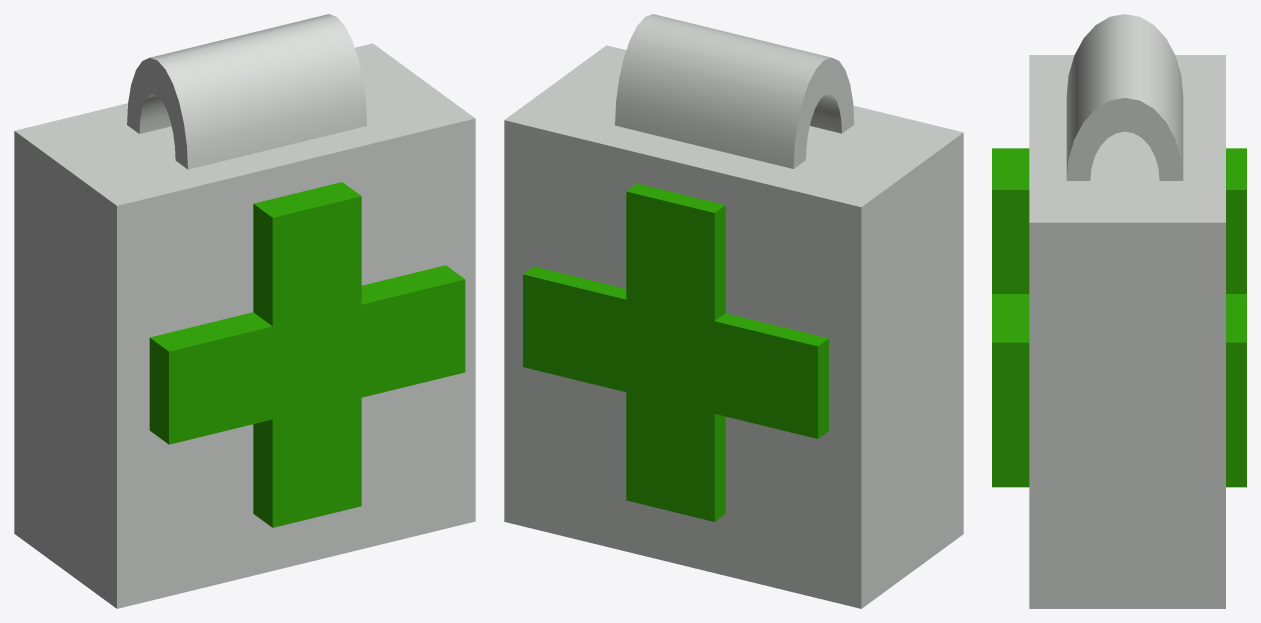
The picture shows the model from 3 angles, left to right: view 1: azimuth 30°, elevation 25°; view 2: azimuth 150°, elevation 25°; view 3: azimuth 270°, elevation 25°; orthographic projection. The views are drawn at different scales.
Parts seen in each view (by area): view 1: block, cross, cylinderHollow_half; view 2: block, cross, cylinderHollow_half; view 3: block, cross, cylinderHollow_half.
Part boxes in pixels (bbox=[...]): block: bbox=[14, 43, 475, 608]; cross: bbox=[149, 182, 465, 527]; cylinderHollow_half: bbox=[127, 14, 367, 169]; block: bbox=[504, 45, 963, 608]; cross: bbox=[523, 183, 828, 521]; cylinderHollow_half: bbox=[615, 14, 854, 168]; block: bbox=[1029, 55, 1225, 608]; cross: bbox=[992, 148, 1246, 487]; cylinderHollow_half: bbox=[1066, 14, 1183, 180].
Bounding box in the file's own units: 12.1 × 15.8 × 7.78.
